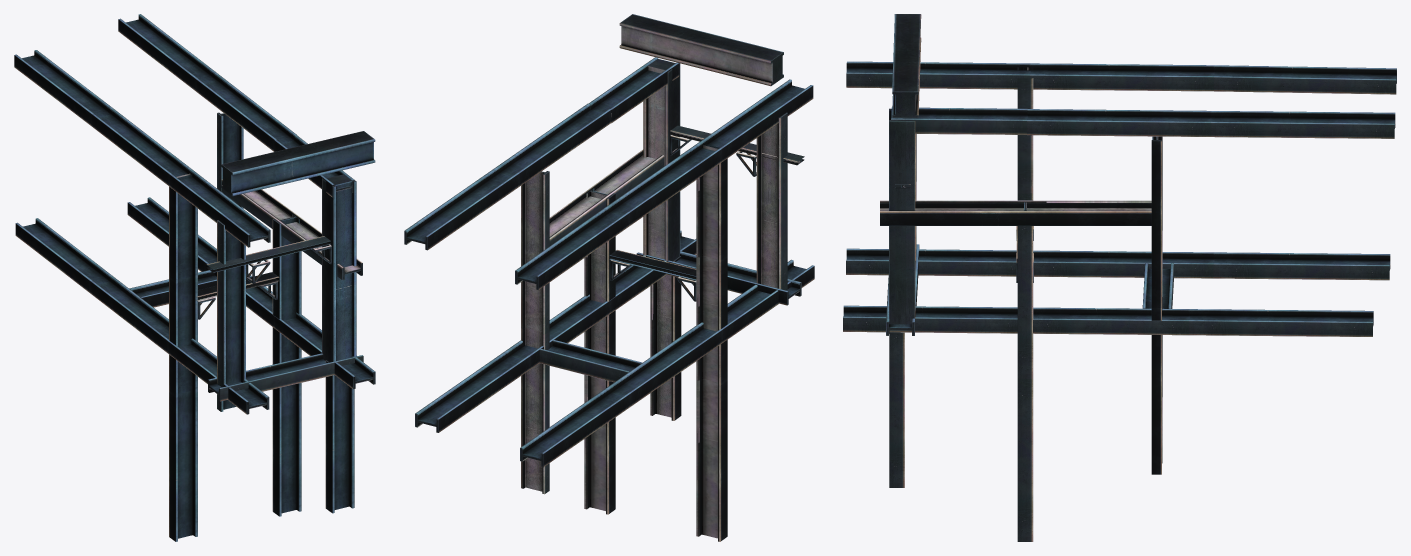
File: beams_031.fbx
3 views of the same model, side by side, from view 1: azimuth 30°, elevation 25°; view 2: azimuth 150°, elevation 25°; view 3: azimuth 270°, elevation 25° (orthographic). The views are drawn at different scales.
Parts seen in each view (by area): view 1: Combined_Mesh; view 2: Combined_Mesh; view 3: Combined_Mesh.
Part boxes in pixels (x1,y1,x2,y2): Combined_Mesh: [14, 14, 375, 541]; Combined_Mesh: [404, 14, 814, 541]; Combined_Mesh: [843, 14, 1396, 541].
Bounding box in the file's own units: 2503 × 6073 × 6626.
